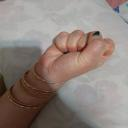Fist: (36, 30, 118, 80)
